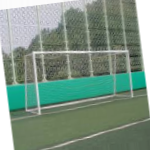goals: (22, 47, 136, 115)
